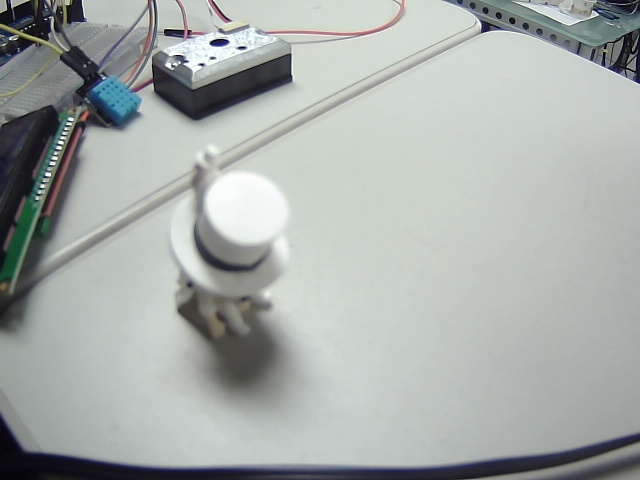lucci: (155, 140, 322, 347)
